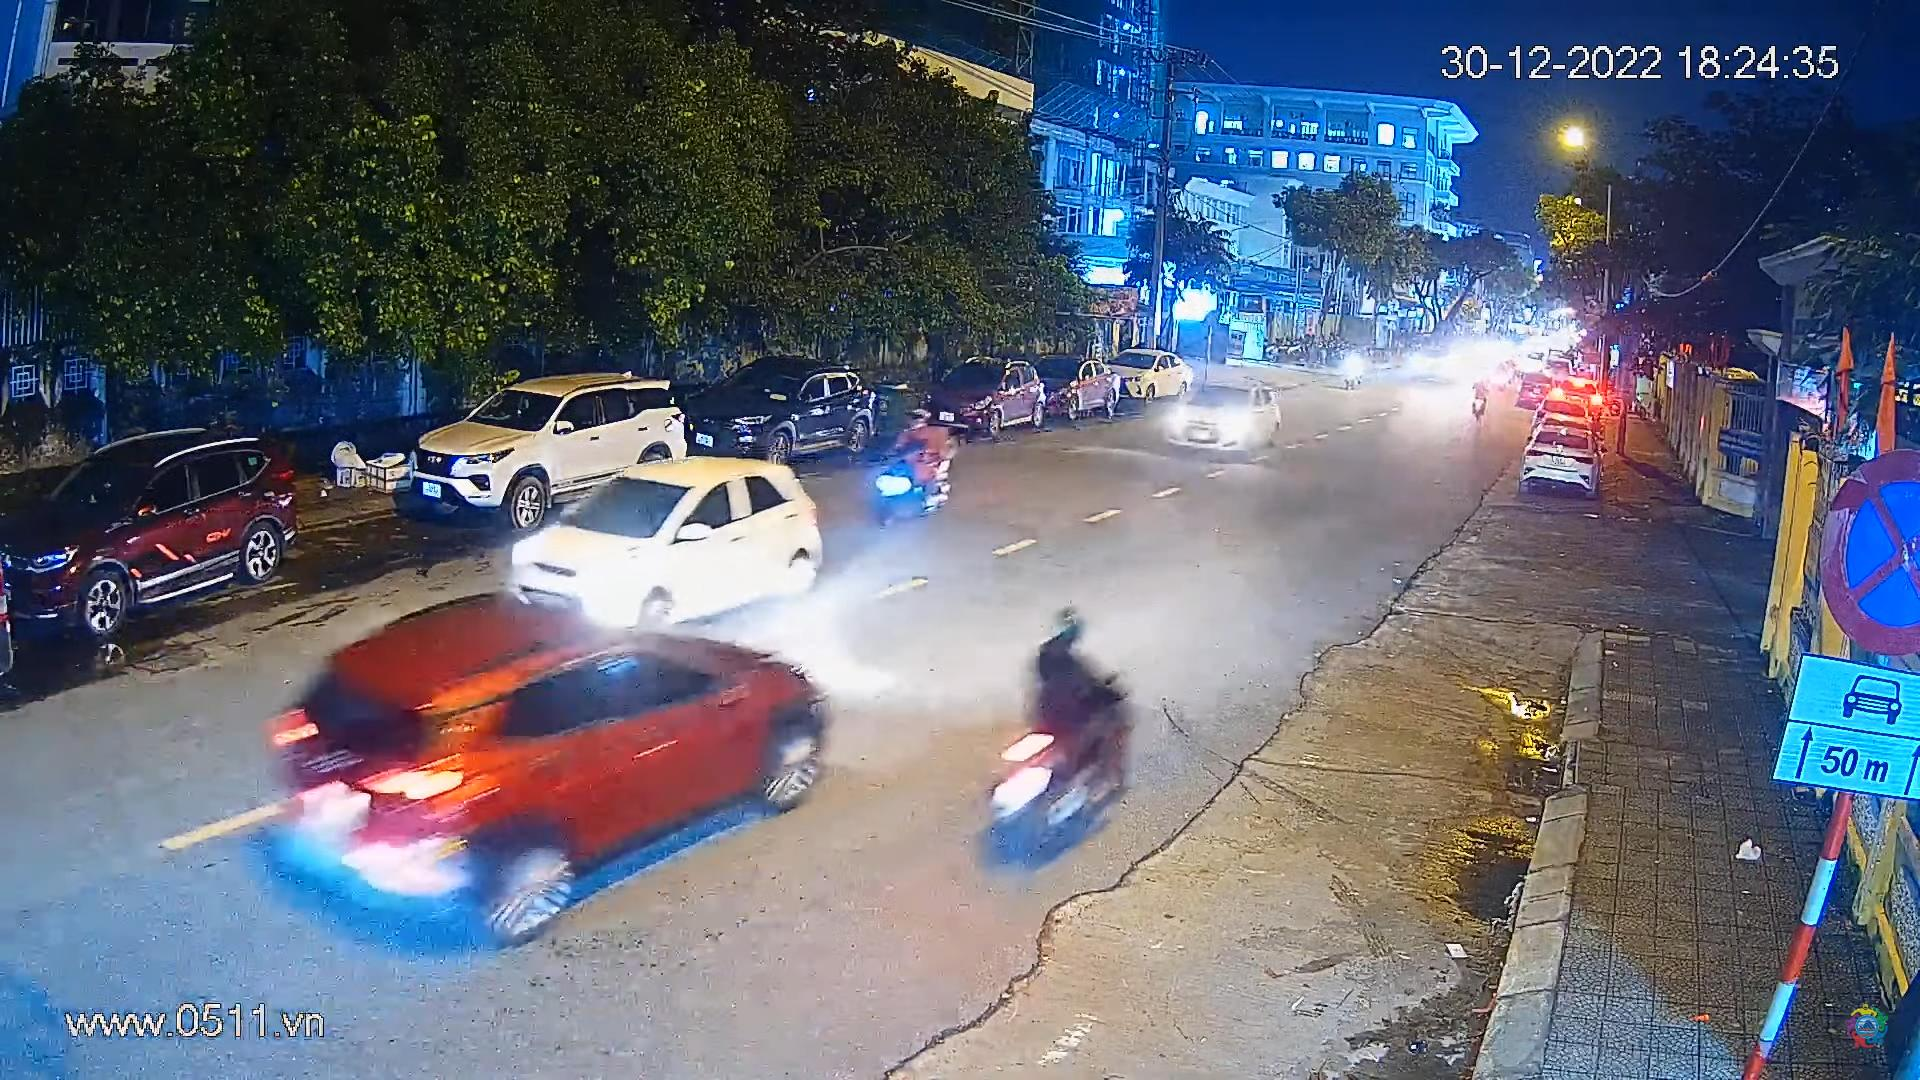car: (269, 585, 843, 949), (509, 444, 851, 644), (0, 415, 295, 641), (405, 368, 686, 541), (688, 355, 878, 465), (923, 357, 1044, 439), (1159, 375, 1280, 455), (1516, 421, 1604, 495), (1034, 356, 1118, 422), (1109, 349, 1200, 401)
motorcycle: (984, 593, 1138, 864), (869, 405, 960, 529)
